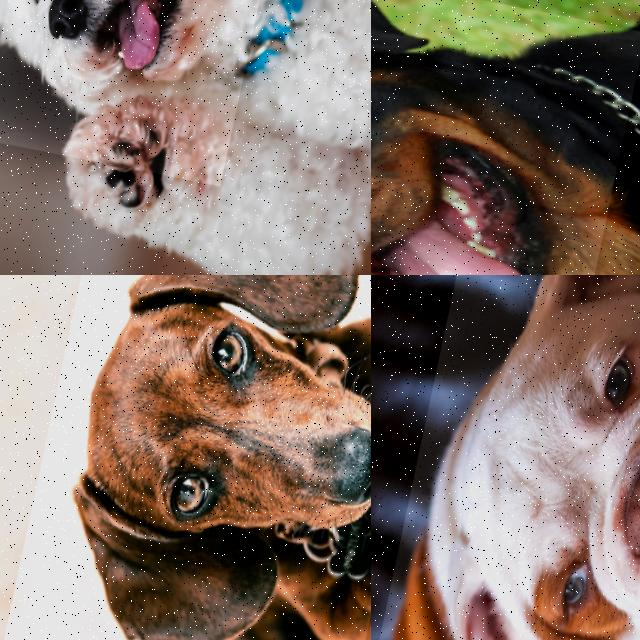beagle: (3, 275, 371, 640)
bulldog: (371, 275, 640, 640)
poodle: (0, 0, 315, 189)
rottweiler: (371, 0, 640, 275)
